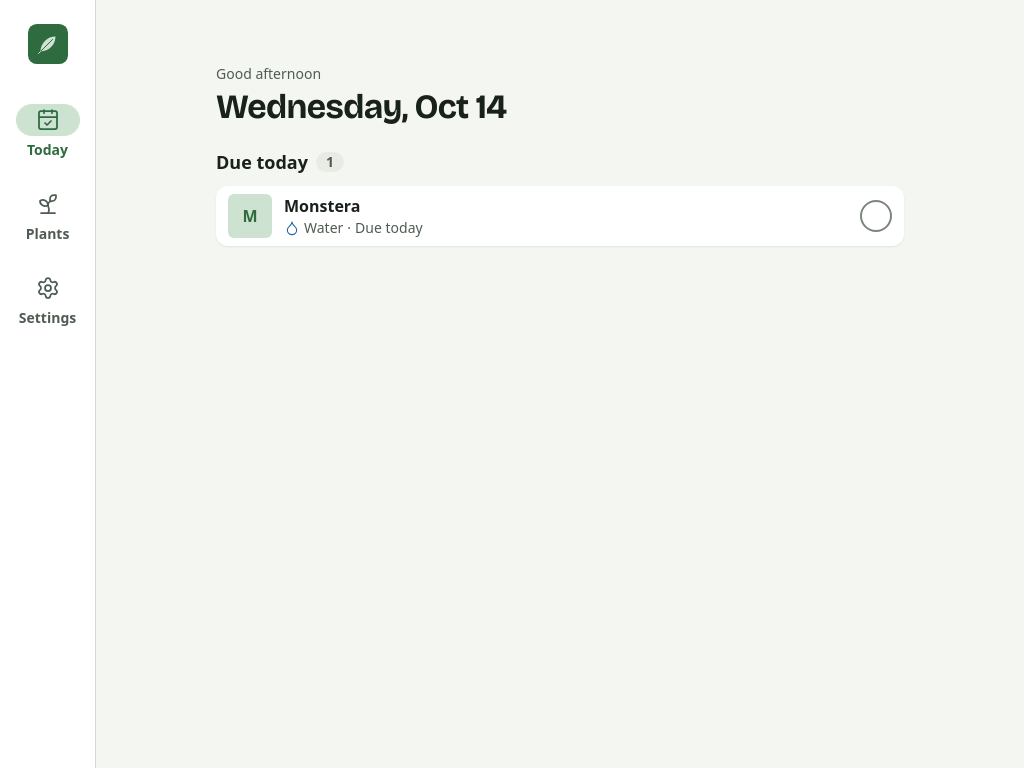
Scenario: Today › snoozes from the task's sheet
Click the button "M Monstera Water · Due today" at (250, 216), box [216,186,852,246]
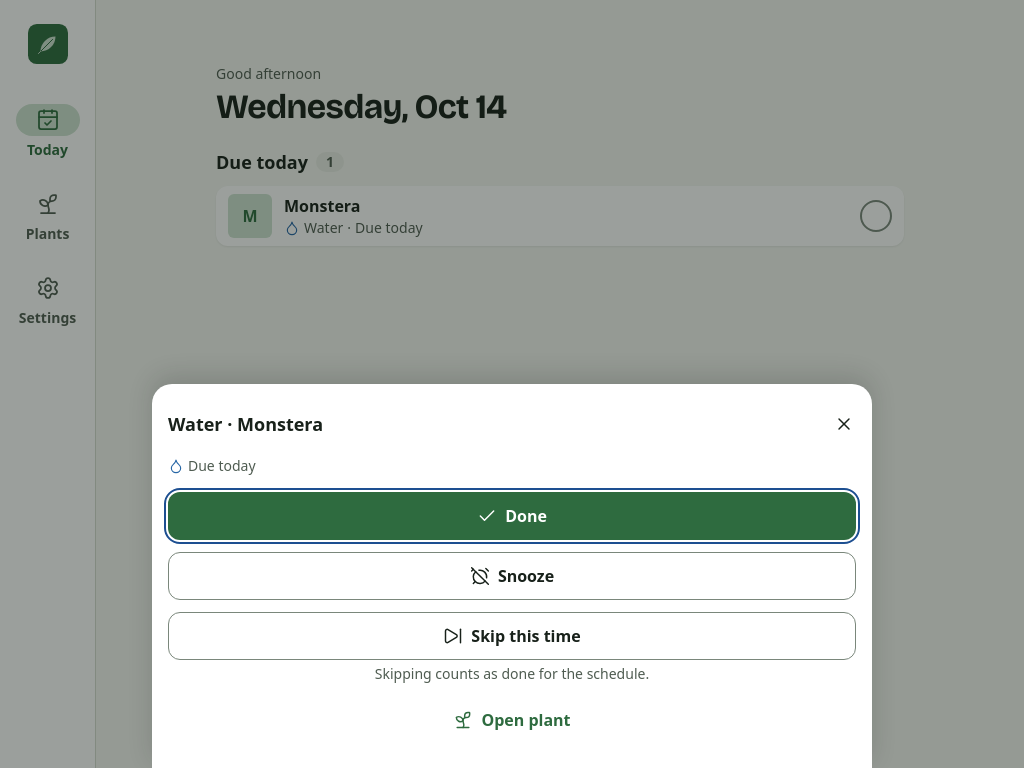
Click the button "Snooze" at (512, 576), box [168,552,856,600]
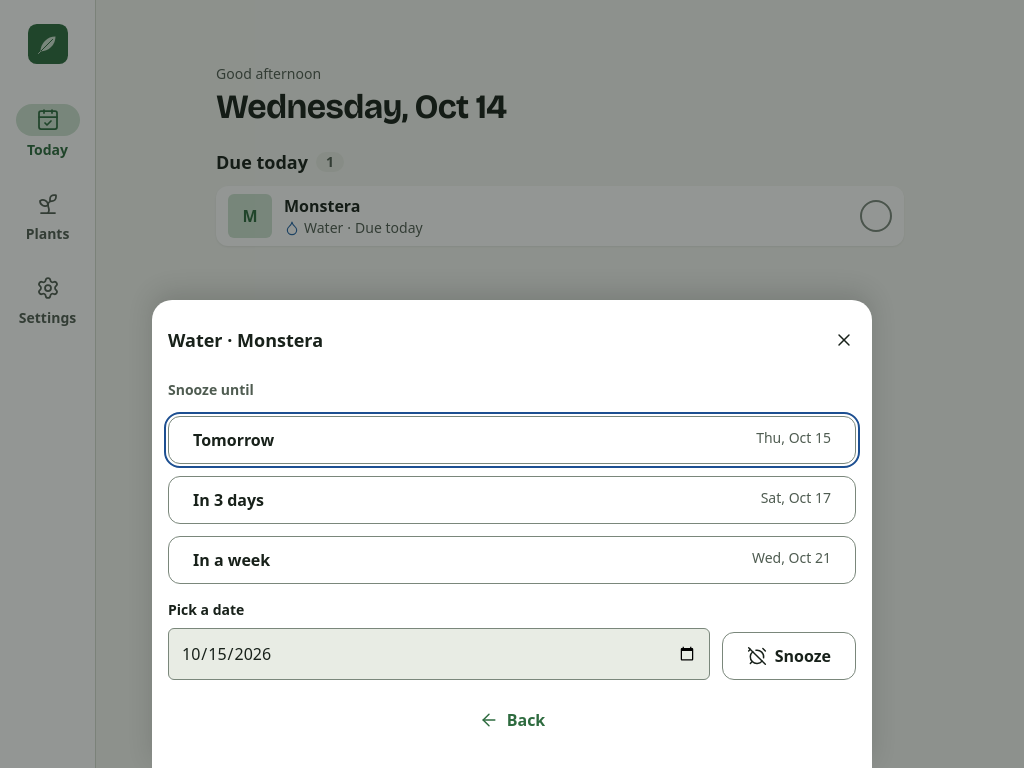
Click the button "In 3 days Sat, Oct 17" at (229, 500), box [168,476,856,524]
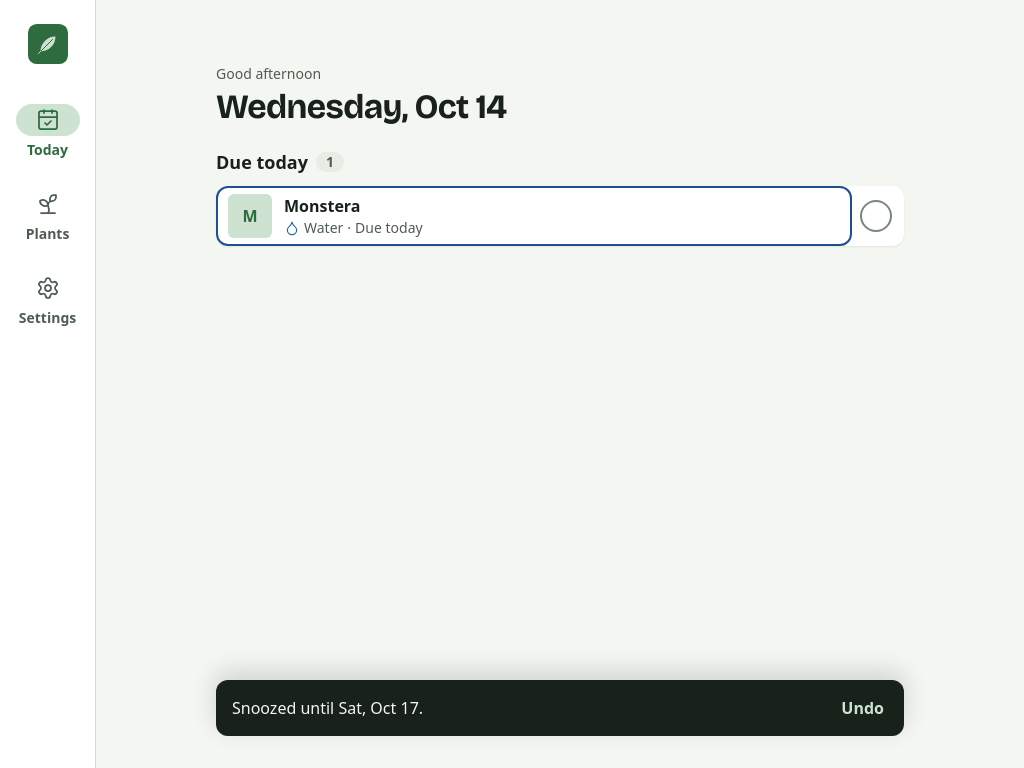
Now the text "Snoozed until Sat, Oct 17." is shown, box [232,697,423,719]
